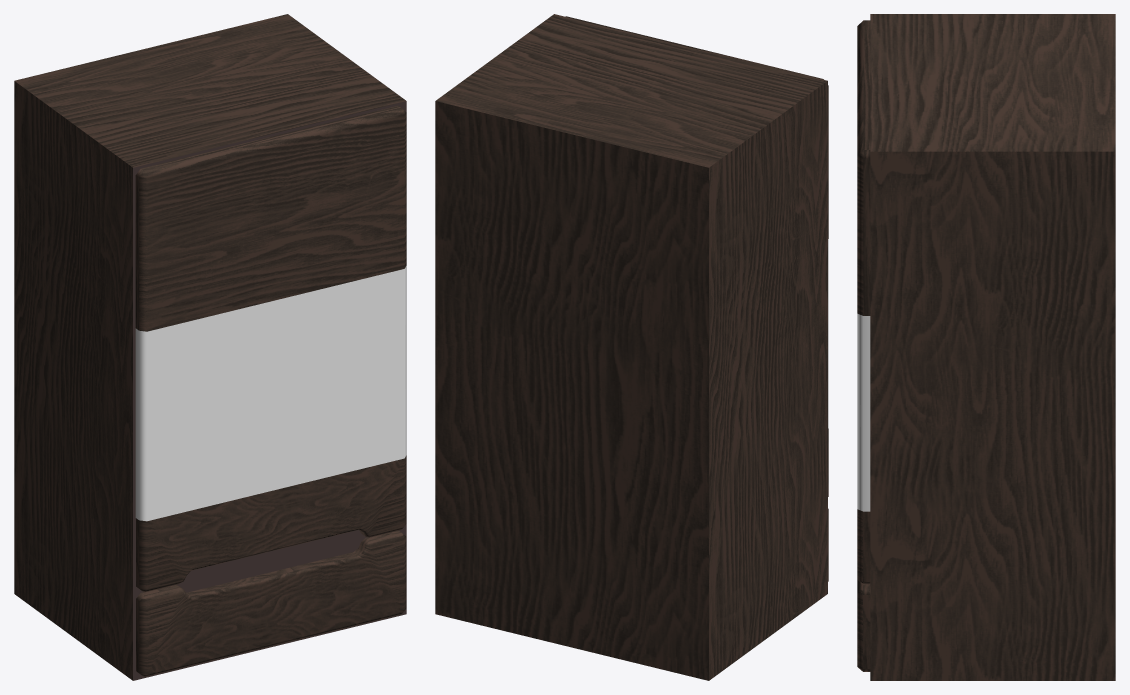
File: wall cabinet_031.fbx
3 renders of one model, left to right at view 1: azimuth 30°, elevation 25°; view 2: azimuth 150°, elevation 25°; view 3: azimuth 270°, elevation 25°, orthographic. The views are drawn at different scales.
Visible parts, largest first — view 1: wall cabinet_031; view 2: wall cabinet_031; view 3: wall cabinet_031.
Part boxes in pixels (x1,y1,x2,y2): wall cabinet_031: (14,14,406,680); wall cabinet_031: (435,14,828,680); wall cabinet_031: (857,14,1115,680).
Size of the model in its own units: 84.33 by 66.86 by 151.
